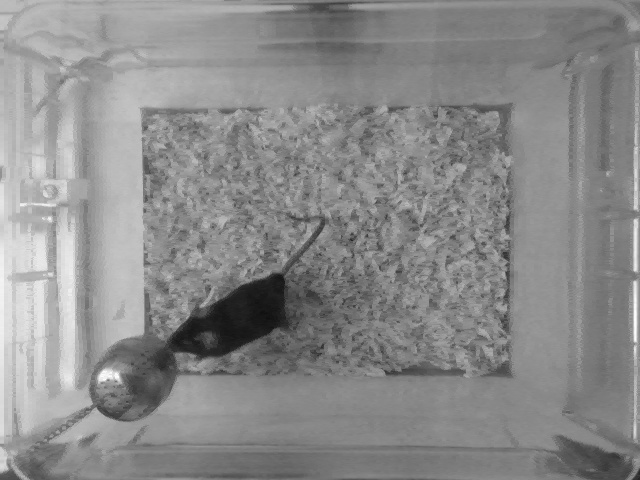mice: (164, 211, 338, 362)
